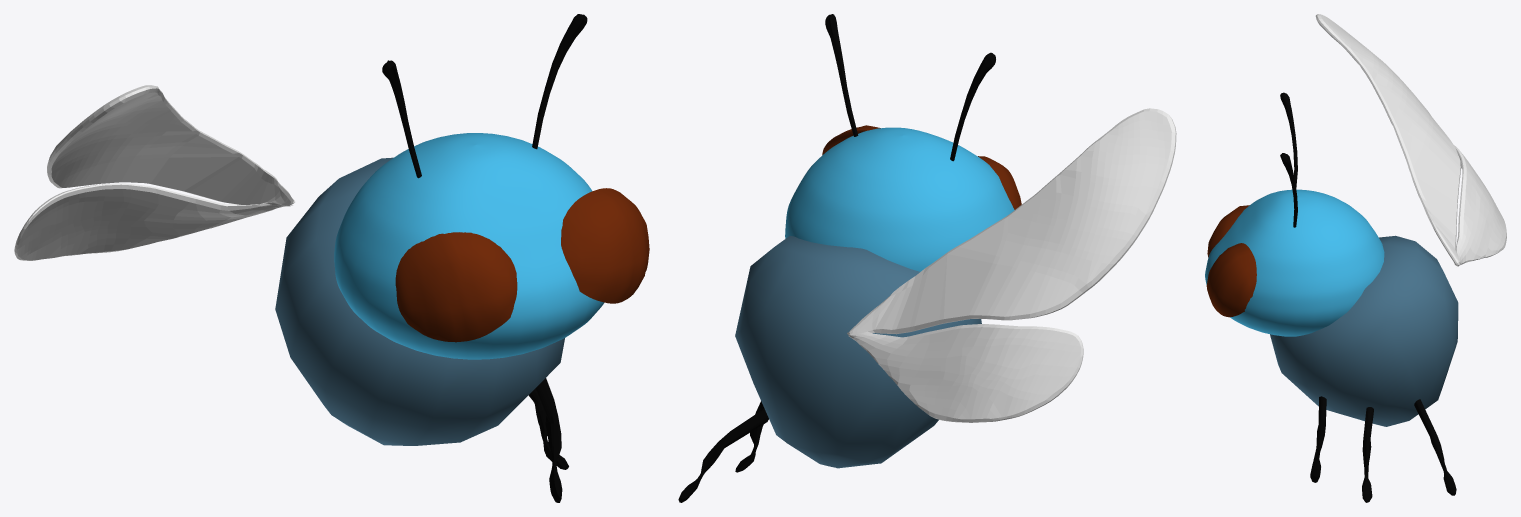
Rendered from firstTest.fbx.
3 views of the same model, side by side, from view 1: azimuth 30°, elevation 25°; view 2: azimuth 150°, elevation 25°; view 3: azimuth 270°, elevation 25° (orthographic). The views are drawn at different scales.
Visible parts, largest first — view 1: Head.001, BugUnity, Wing, Eye.002, Eye.003, Leg1, HeadThing1, HeadThing2; view 2: Wing, BugUnity, Head.001, Leg3, HeadThing1, HeadThing2, Eye.002; view 3: BugUnity, Head.001, Wing, Eye.003, Leg3, Leg2, Leg1, Eye.002, HeadThing2, HeadThing1.
Part boxes in pixels (x1,y1,x2,y2): Head.001: (334,133,604,359); BugUnity: (275,157,564,445); Wing: (14,85,295,260); Eye.002: (395,232,517,342); Eye.003: (561,188,649,303); Leg1: (535,378,562,502); HeadThing1: (532,14,587,149); HeadThing2: (382,60,421,178); Wing: (847,108,1176,422); BugUnity: (735,236,981,468); Head.001: (785,127,1014,271); Leg3: (678,408,768,502); HeadThing1: (825,14,858,136); HeadThing2: (950,52,995,161); Eye.002: (978,156,1021,209); BugUnity: (1270,235,1458,426); Head.001: (1205,189,1384,336); Wing: (1315,14,1506,267); Eye.003: (1206,243,1256,317); Leg3: (1414,399,1456,495); Leg2: (1362,407,1373,502); Leg1: (1310,396,1326,482); Eye.002: (1207,205,1249,257); HeadThing2: (1280,92,1297,187); HeadThing1: (1280,153,1297,227).
Size of the model in its own units: 402 by 395 by 319.
